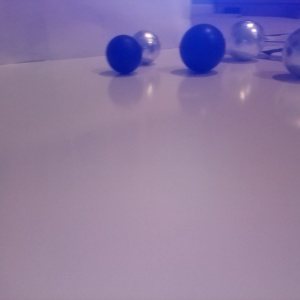alive_ball: (226, 19, 265, 59), (131, 29, 160, 63), (281, 28, 300, 76)
dead_ball: (178, 22, 225, 72), (105, 33, 143, 73)
